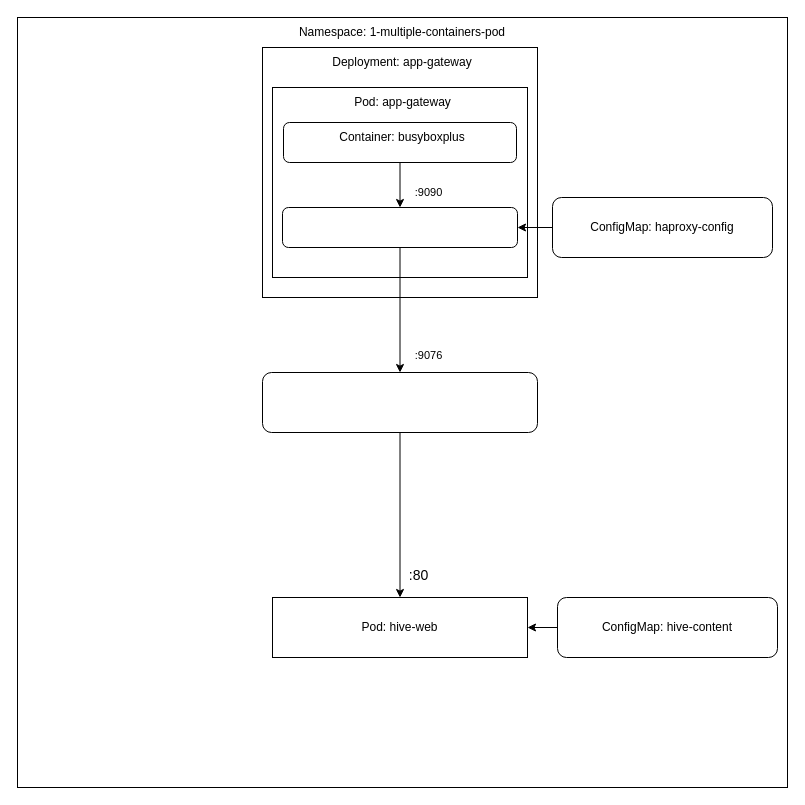
The diagram is 805 pixels wide and 805 high, and some of its shapes have lost their labels. Here are the shapes that lost their labels. From the top down, the centre of each, then its label:
At point 400,227: "Container: ambassador".
At point 400,402: "Service: hive-svc ClusterIP".
